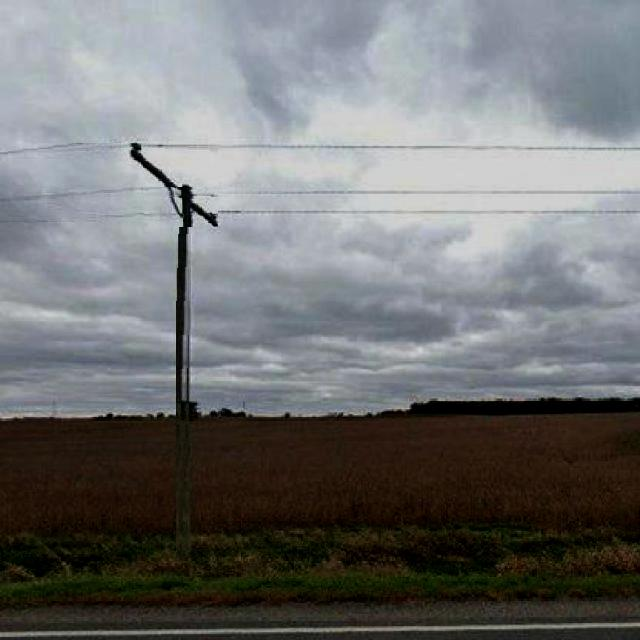crossarm: (131, 144, 218, 227)
pole: (176, 183, 193, 563)
wire: (0, 187, 270, 203), (0, 143, 112, 156), (0, 219, 188, 222)
